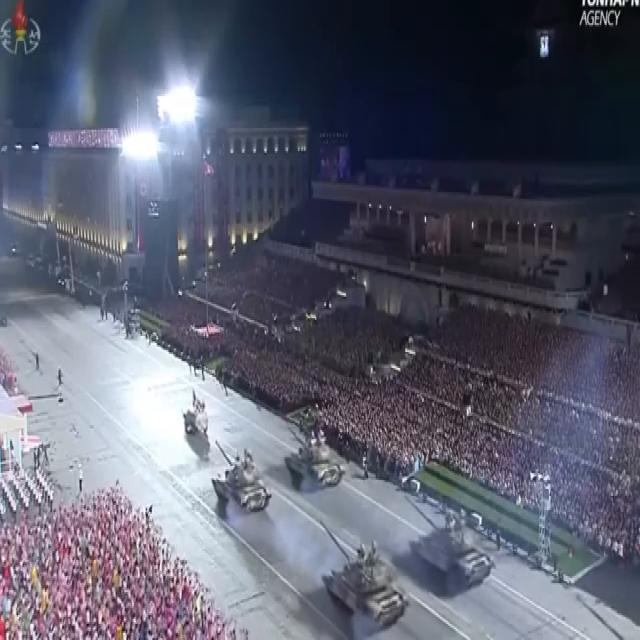north tank: (299, 500, 409, 640), (389, 469, 489, 608), (205, 438, 281, 524), (282, 417, 345, 518)
